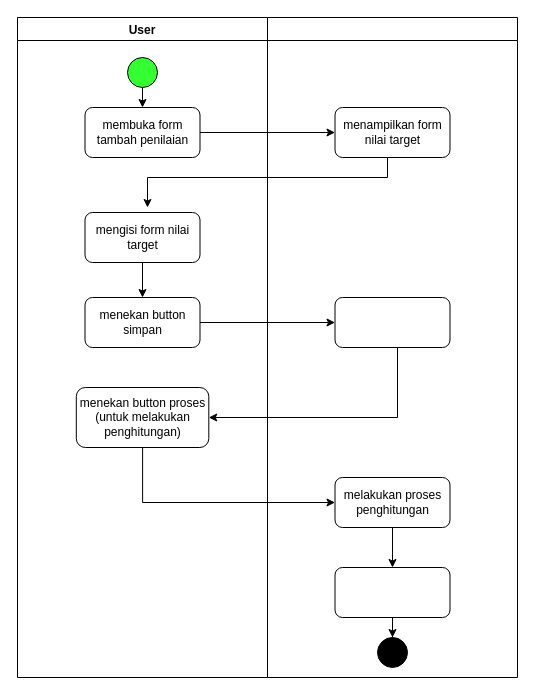
This 535x695 diagram has some shape labels left out. The shapes that lost their labels are listed below. From the top down, each one's box as (x1, y1, x2, y2) in pixels, then its label:
(334, 296, 450, 348): menyimpan pada database
(266, 16, 518, 678): System
(334, 566, 450, 618): menampilkan hasil penghitungan
